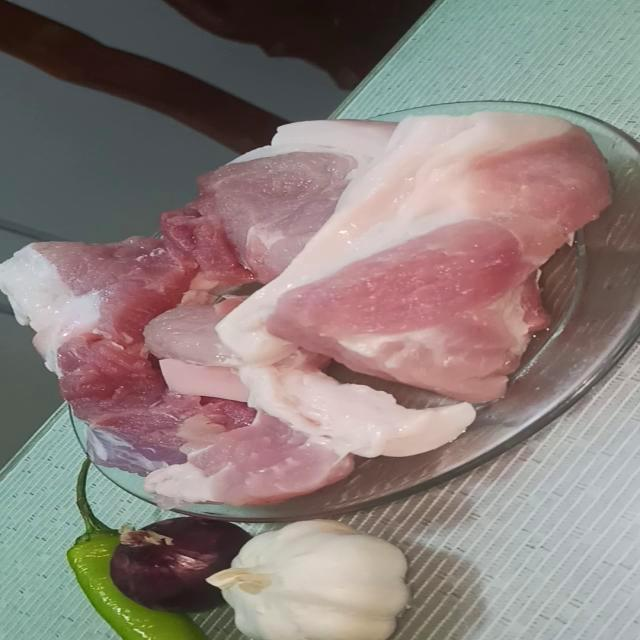chili_pepper: (47, 465, 207, 640)
garlic: (204, 523, 424, 640)
onion: (83, 503, 243, 605)
pork: (249, 113, 640, 415), (68, 345, 403, 520), (101, 94, 388, 259), (0, 204, 228, 379)
